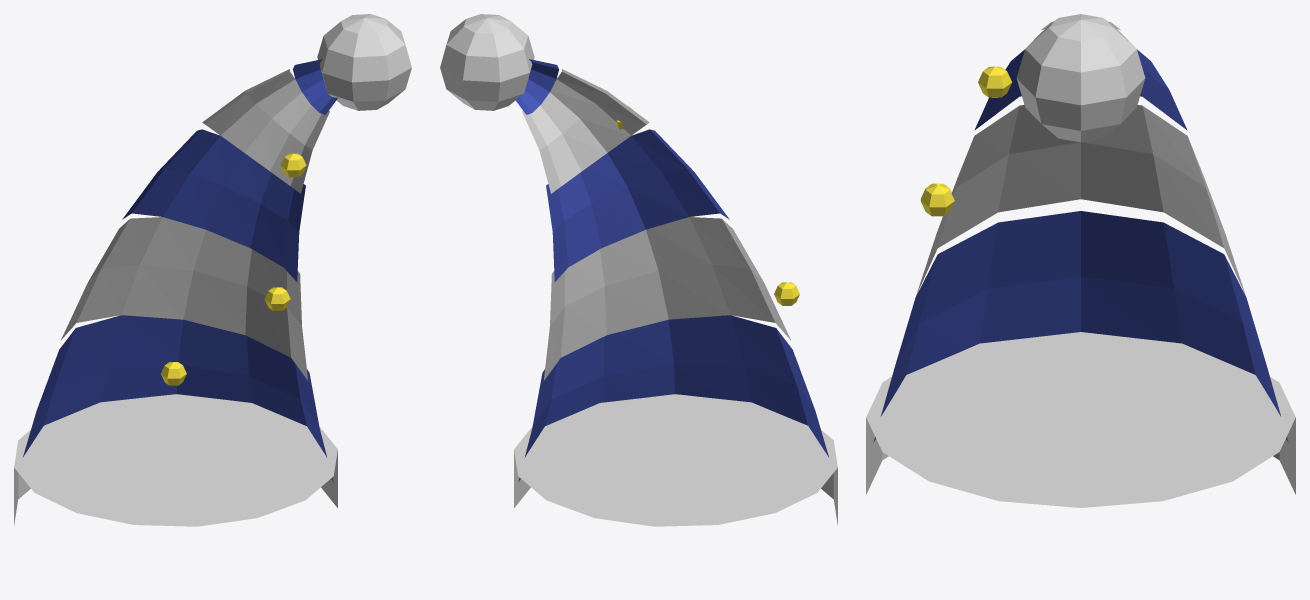
Rendered from nattmossa.glb.
The picture shows the model from 3 angles, left to right: view 1: azimuth 30°, elevation 25°; view 2: azimuth 150°, elevation 25°; view 3: azimuth 270°, elevation 25°; orthographic projection. The views are drawn at different scales.
Visible parts, largest first — view 1: nattmossa; view 2: nattmossa; view 3: nattmossa.
Boxes of the visible parts, x1,y1,x2,y2 form: nattmossa: (14, 14, 411, 526); nattmossa: (440, 14, 837, 526); nattmossa: (866, 14, 1295, 507).
Bounding box in the file's own units: 0.395 × 0.4595 × 0.3.
